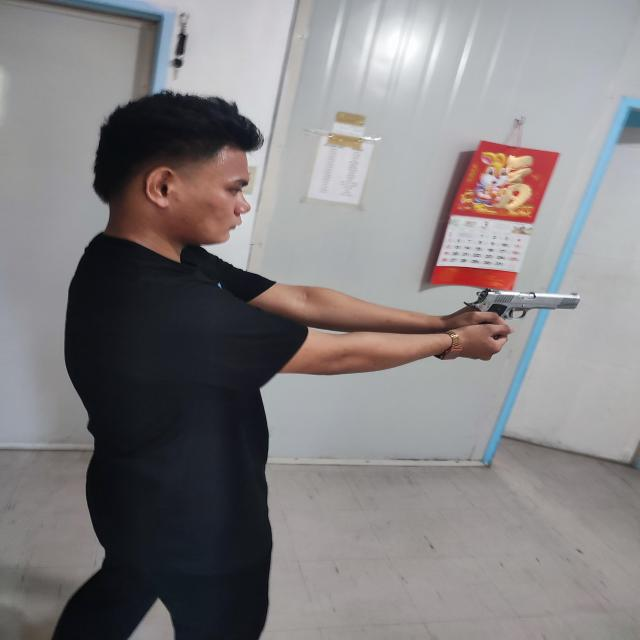pistol: (463, 288, 580, 324)
